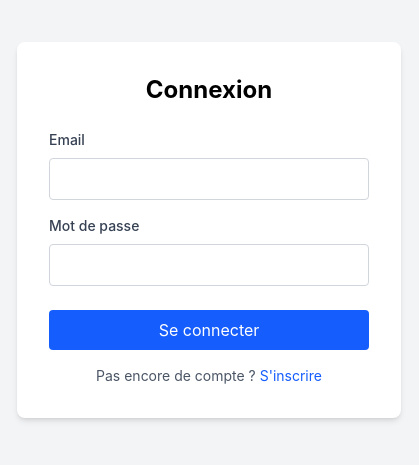
LoginPage › affiche le message d'erreur renvoyé par le backend en cas d'échec
The width and height of the screenshot is (419, 465).
Type "test@test.com" into the field labelled "Email" at (209,179), box [49,158,369,200]
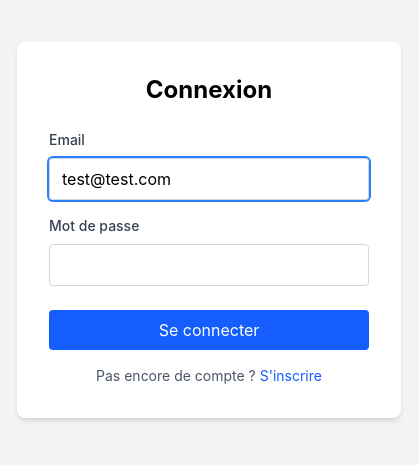
Type "mauvais" into the password field labelled "Mot de passe" at (209,265), box [49,244,369,286]
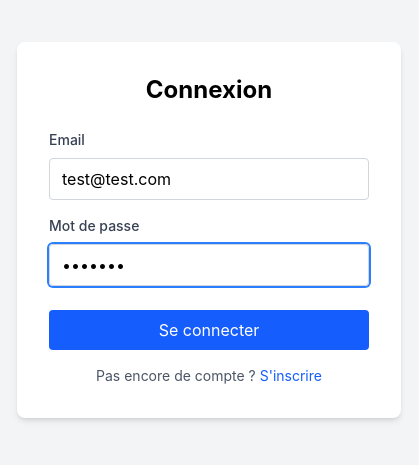
Click the button "Se connecter" at (209,330), box [49,310,369,350]
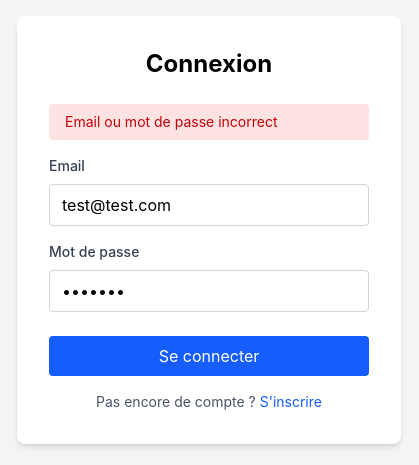
Result: the text "Email ou mot de passe incorrect" is shown at [49,104,369,140]
